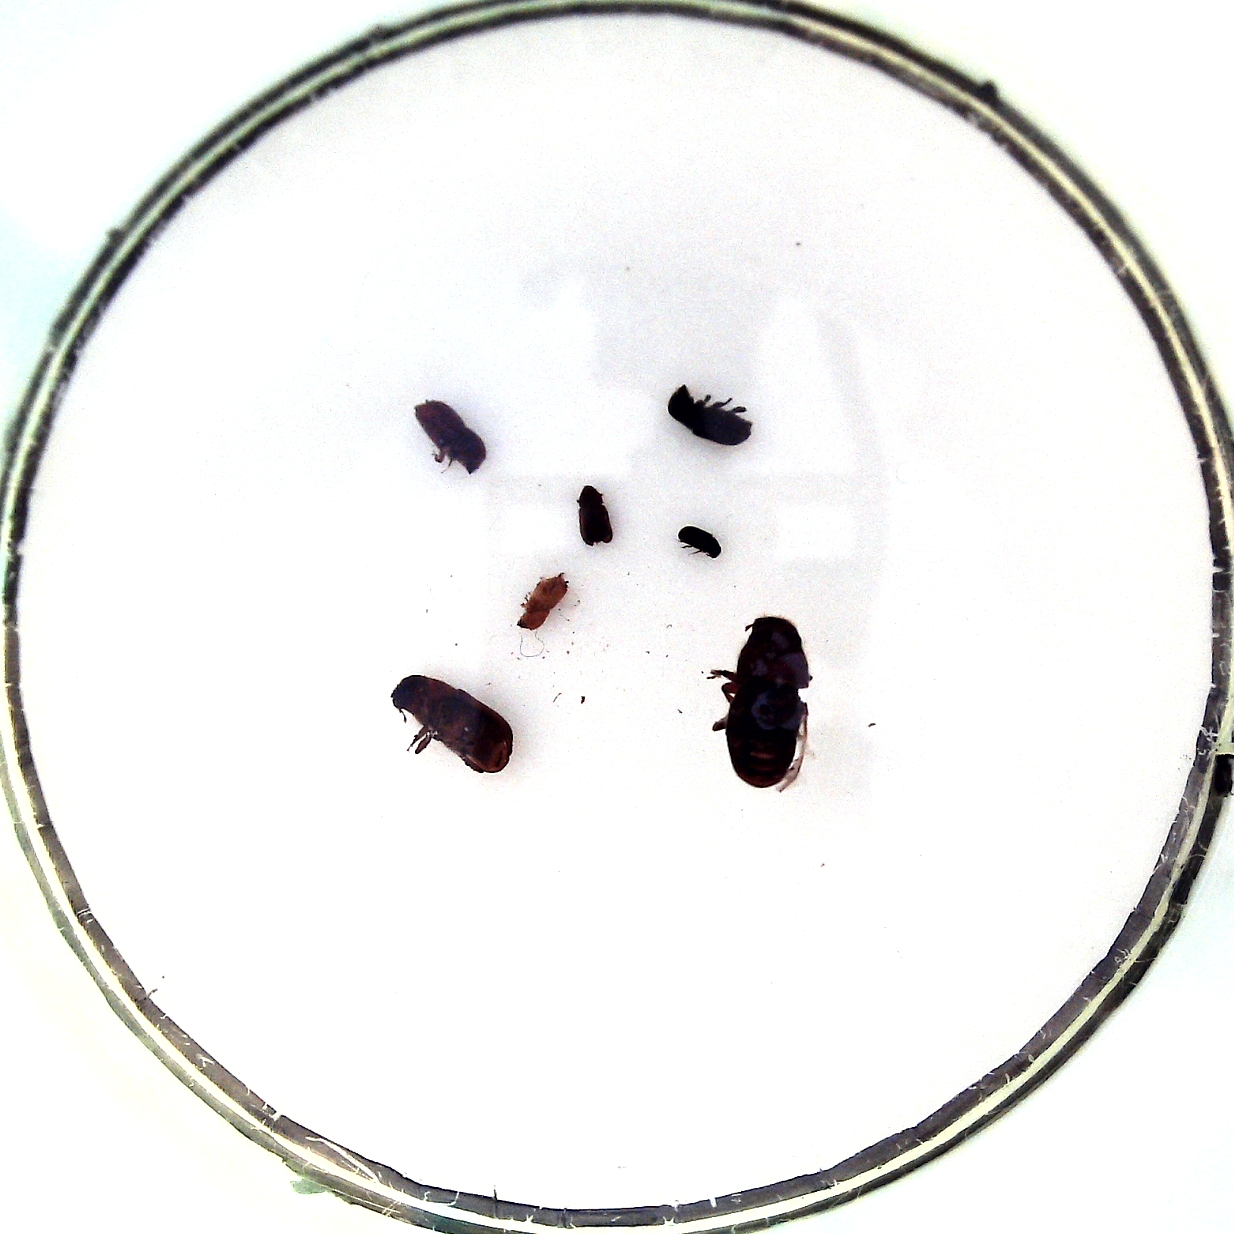Leconte: (725, 614, 810, 787), (390, 674, 512, 773)
acuminatus: (677, 525, 721, 557)
armandi: (667, 384, 751, 445)
coleoptera: (516, 576, 568, 631), (577, 485, 612, 545)
linnaeus: (414, 399, 486, 475)
